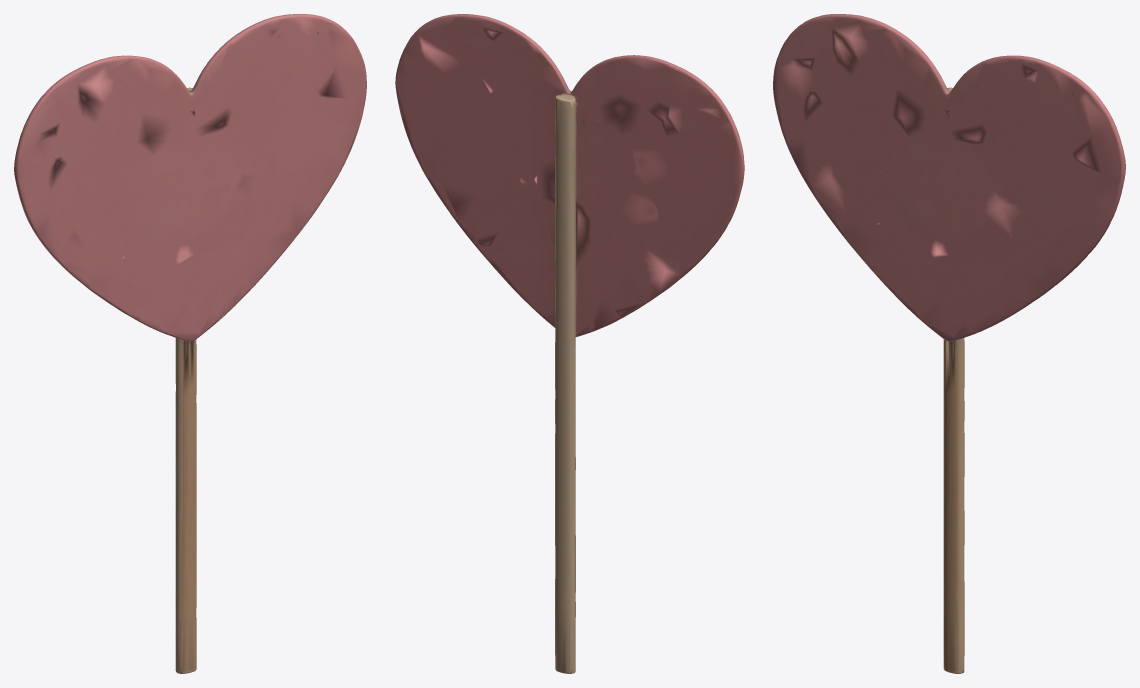
File: bk-topper-heart.glb
3 renders of one model, left to right at view 1: azimuth 30°, elevation 25°; view 2: azimuth 150°, elevation 25°; view 3: azimuth 330°, elevation 25°, orthographic.
Parts seen in each view (by area): view 1: node_0; view 2: node_0; view 3: node_0.
Part boxes in pixels (x1=…): node_0: x1=14, y1=14, x2=366, y2=673; node_0: x1=395, y1=14, x2=744, y2=673; node_0: x1=773, y1=14, x2=1125, y2=673.
Bounding box in the file's own units: 0.6562 × 1.13 × 0.0331.
1 material, 1 textured.
